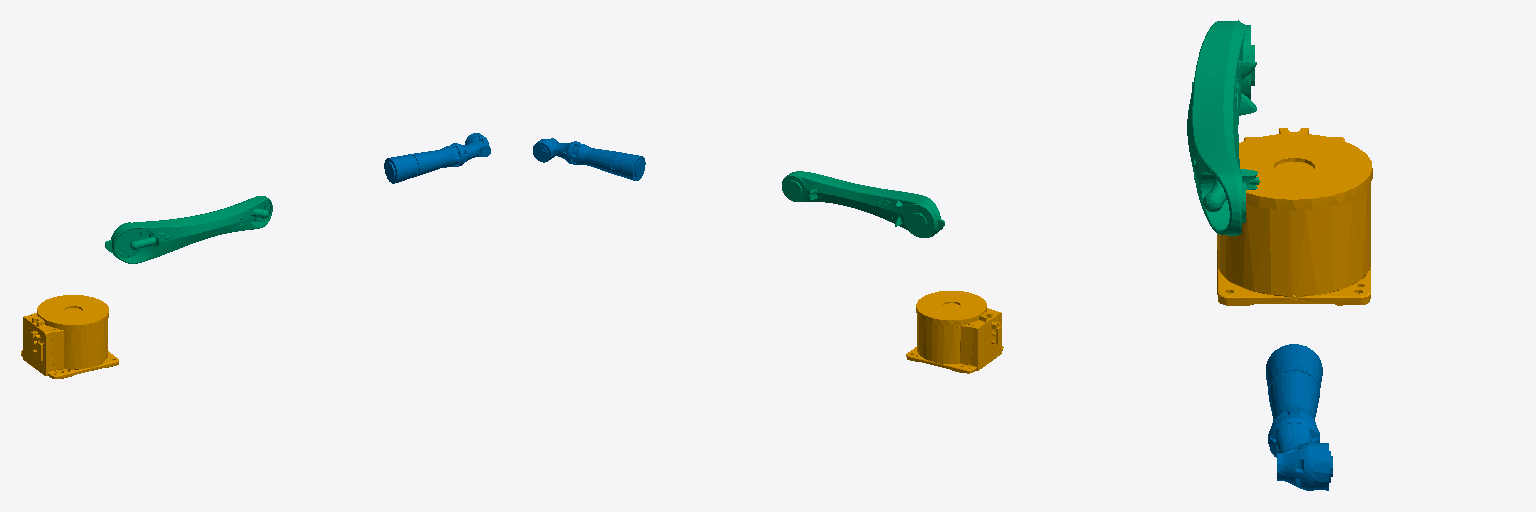
robot.urdf — kuka_kr20_r1810_2:
<?xml version="1.0" ?>
<!-- =================================================================================== -->
<!-- |    This document was autogenerated by xacro from kr16_2.xacro                   | -->
<!-- |    EDITING THIS FILE BY HAND IS NOT RECOMMENDED                                 | -->
<!-- =================================================================================== -->
<!--Generates a urdf from the macro in kr16_2_macro.xacro -->
<robot name="kuka_kr20_r1810_2" xmlns:xacro="http://wiki.ros.org/xacro">
  <!-- LINKS -->
  <!-- base link -->
  <link name="base_link">
    <inertial>
      <origin rpy="0 0 0" xyz="0 0 0"/>
      <mass value="2"/>
      <inertia ixx="0.01" ixy="0" ixz="0" iyy="0.01" iyz="0" izz="0.01"/>
    </inertial>
    <visual>
      <origin rpy="0 0 0" xyz="0 0 0"/>
      <geometry>
        <mesh filename="package://kuka_kr20_support/meshes/kuka_kr20_r1810_2/visual/base_link.stl" scale="0.001 0.001 0.001"/>
      </geometry>
    </visual>
    <collision>
      <origin rpy="0 0 0" xyz="0 0 0"/>
      <geometry>
        <mesh filename="package://kuka_kr20_support/meshes/kuka_kr20_r1810_2/collision/base_link.stl" scale="0.001 0.001 0.001"/>
      </geometry>
    </collision>
  </link>
  <!-- link 1 (A1) -->
  <link name="link_1">
    <inertial>
      <origin rpy="0 0 0" xyz="0 0 0"/>
      <mass value="2"/>
      <inertia ixx="0.01" ixy="0" ixz="0" iyy="0.01" iyz="0" izz="0.01"/>
    </inertial>
    <visual>
      <origin rpy="0 0 0" xyz="0 0 0"/>
      <geometry>
        <mesh filename="package://kuka_kr20_support/meshes/kuka_kr20_r1810_2/visual/link_1.stl" scale="0.001 0.001 0.001"/>
      </geometry>
    </visual>
    <collision>
      <origin rpy="0 0 0" xyz="0 0 0"/>
      <geometry>
        <mesh filename="package://kuka_kr20_support/meshes/kuka_kr20_r1810_2/collision/link_1.stl" scale="0.001 0.001 0.001"/>
      </geometry>
    </collision>
  </link>
  <!-- link 2 -->
  <link name="link_2">
    <inertial>
      <origin rpy="0 0 0" xyz="0 0 0"/>
      <mass value="2"/>
      <inertia ixx="0.01" ixy="0" ixz="0" iyy="0.01" iyz="0" izz="0.01"/>
    </inertial>
    <visual>
      <origin rpy="0 0 0" xyz="0 0 0"/>
      <geometry>
        <mesh filename="package://kuka_kr20_support/meshes/kuka_kr20_r1810_2/visual/link_2.stl" scale="0.001 0.001 0.001"/>
      </geometry>
    </visual>
    <collision>
      <origin rpy="0 0 0" xyz="0 0 0"/>
      <geometry>
        <mesh filename="package://kuka_kr20_support/meshes/kuka_kr20_r1810_2/collision/link_2.stl" scale="0.001 0.001 0.001"/>
      </geometry>
    </collision>
  </link>
  <!-- link 3 -->
  <link name="link_3">
    <inertial>
      <origin rpy="0 0 0" xyz="0 0 0"/>
      <mass value="2"/>
      <inertia ixx="0.01" ixy="0" ixz="0" iyy="0.01" iyz="0" izz="0.01"/>
    </inertial>
    <visual>
      <origin rpy="0 0 0" xyz="0 0 0"/>
      <geometry>
        <mesh filename="package://kuka_kr20_support/meshes/kuka_kr20_r1810_2/visual/link_3.stl" scale="0.001 0.001 0.001"/>
      </geometry>
    </visual>
    <collision>
      <origin rpy="0 0 0" xyz="0 0 0"/>
      <geometry>
        <mesh filename="package://kuka_kr20_support/meshes/kuka_kr20_r1810_2/collision/link_3.stl" scale="0.001 0.001 0.001"/>
      </geometry>
    </collision>
  </link>
  <!-- link 4 -->
  <link name="link_4">
    <inertial>
      <origin rpy="0 0 0" xyz="0 0 0"/>
      <mass value="2"/>
      <inertia ixx="0.01" ixy="0" ixz="0" iyy="0.01" iyz="0" izz="0.01"/>
    </inertial>
    <visual>
      <origin rpy="0 0 0" xyz="0 0 0"/>
      <geometry>
        <mesh filename="package://kuka_kr20_support/meshes/kuka_kr20_r1810_2/visual/link_4.stl" scale="0.001 0.001 0.001"/>
      </geometry>
    </visual>
    <collision>
      <origin rpy="0 0 0" xyz="0 0 0"/>
      <geometry>
        <mesh filename="package://kuka_kr20_support/meshes/kuka_kr20_r1810_2/collision/link_4.stl" scale="0.001 0.001 0.001"/>
      </geometry>
    </collision>
  </link>
  <!-- link 5 -->
  <link name="link_5">
    <inertial>
      <origin rpy="0 0 0" xyz="0 0 0"/>
      <mass value="2"/>
      <inertia ixx="0.01" ixy="0" ixz="0" iyy="0.01" iyz="0" izz="0.01"/>
    </inertial>
    <visual>
      <origin rpy="0 0 0" xyz="0 0 0"/>
      <geometry>
        <mesh filename="package://kuka_kr20_support/meshes/kuka_kr20_r1810_2/visual/link_5.stl" scale="0.001 0.001 0.001"/>
      </geometry>
    </visual>
    <collision>
      <origin rpy="0 0 0" xyz="0 0 0"/>
      <geometry>
        <mesh filename="package://kuka_kr20_support/meshes/kuka_kr20_r1810_2/collision/link_5.stl" scale="0.001 0.001 0.001"/>
      </geometry>
    </collision>
  </link>
  <!-- link 6 -->
  <link name="link_6">
    <inertial>
      <origin rpy="0 0 0" xyz="0 0 0"/>
      <mass value="2"/>
      <inertia ixx="0.01" ixy="0" ixz="0" iyy="0.01" iyz="0" izz="0.01"/>
    </inertial>
    <visual>
      <origin rpy="0 0 0" xyz="0 0 0"/>
      <geometry>
        <mesh filename="package://kuka_kr20_support/meshes/kuka_kr20_r1810_2/visual/link_6.stl" scale="0.001 0.001 0.001"/>
      </geometry>
    </visual>
    <collision>
      <origin rpy="0 0 0" xyz="0 0 0"/>
      <geometry>
        <mesh filename="package://kuka_kr20_support/meshes/kuka_kr20_r1810_2/collision/link_6.stl" scale="0.001 0.001 0.001"/>
      </geometry>
    </collision>
  </link>
  <!-- tool 0 -->
  <!-- This frame corresponds to the $FLANGE coordinate system in KUKA KRC controllers. -->
  <link name="tool0"/>
  <!-- END LINKS -->
  <!-- JOINTS -->
  <!-- joint 1 (A1) -->
  <joint name="joint_a1" type="revolute">
    <origin rpy="0 0 0" xyz="0 0 0.675"/>
    <parent link="base_link"/>
    <child link="link_1"/>
    <axis xyz="0 0 -1"/>
    <limit effort="0" lower="-3.22885911619" upper="3.22885911619" velocity="2.72271363311"/>
  </joint>
  <!-- joint 2 (A2) -->
  <joint name="joint_a2" type="revolute">
    <origin rpy="0 0 0" xyz="0.26 0 0"/>
    <parent link="link_1"/>
    <child link="link_2"/>
    <axis xyz="0 1 0"/>
    <limit effort="0" lower="-2.70526034059" upper="0.610865238198" velocity="2.72271363311"/>
  </joint>
  <!-- joint 3 (A3) -->
  <joint name="joint_a3" type="revolute">
    <origin rpy="0 0 0" xyz="0.68 0 0"/>
    <parent link="link_2"/>
    <child link="link_3"/>
    <axis xyz="0 1 0"/>
    <limit effort="0" lower="-2.26892802759" upper="2.68780704807" velocity="2.72271363311"/>
  </joint>
  <!-- joint 4 (A4) -->
  <joint name="joint_a4" type="revolute">
    <origin rpy="0 0 0" xyz="0.67 0 -0.035"/>
    <parent link="link_3"/>
    <child link="link_4"/>
    <axis xyz="-1 0 0"/>
    <limit effort="0" lower="-6.10865238198" upper="6.10865238198" velocity="5.75958653158"/>
  </joint>
  <!-- joint 5 (A5) -->
  <joint name="joint_a5" type="revolute">
    <origin rpy="0 0 0" xyz="0 0 0"/>
    <parent link="link_4"/>
    <child link="link_5"/>
    <axis xyz="0 1 0"/>
    <limit effort="0" lower="-2.26892802759" upper="2.26892802759" velocity="5.75958653158"/>
  </joint>
  <!-- joint 6 (A6) -->
  <joint name="joint_a6" type="revolute">
    <origin rpy="0 0 0" xyz="0 0 0"/>
    <parent link="link_5"/>
    <child link="link_6"/>
    <axis xyz="-1 0 0"/>
    <limit effort="0" lower="-6.10865238198" upper="6.10865238198" velocity="10.7337748998"/>
  </joint>
  <!-- tool frame - fixed frame -->
  <joint name="joint_a6-tool0" type="fixed">
    <parent link="link_6"/>
    <child link="tool0"/>
    <origin rpy="0 1.57079632679 0" xyz="0.158 0 0"/>
  </joint>
  <!-- END JOINTS -->
  <!-- ROS base_link to KUKA $ROBROOT coordinate system transform -->
  <link name="base"/>
  <joint name="base_link-base" type="fixed">
    <origin rpy="0 0 0" xyz="0 0 0"/>
    <parent link="base_link"/>
    <child link="base"/>
  </joint>
</robot>

--- What the picture shows (computed from the rendered views, not written in the file) ---
Views: 3 orthographic renders of the robot side by side, from view 1: azimuth 30°, elevation 25°; view 2: azimuth 150°, elevation 25°; view 3: azimuth 270°, elevation 25°.
Model kuka_kr20_r1810_2 with 9 links and 8 joints (6 revolute, 2 fixed), rooted at base_link, posed all joints at 0.
Visible links, largest first — view 1: base_link, link_2, link_4; view 2: base_link, link_2, link_4; view 3: base_link, link_2, link_4.
Boxes of the visible links, x1,y1,x2,y2 form: base_link: (21,295,118,378); link_2: (105,196,272,263); link_4: (384,133,490,183); base_link: (906,291,1003,373); link_2: (782,171,944,237); link_4: (533,138,645,180); base_link: (1217,128,1372,305); link_2: (1187,20,1259,235); link_4: (1266,344,1332,490).
Size in the robot's own frame: 2.79 by 0.4462 by 0.7824 metres.
Meshes: 7 distinct files referenced, 3 mesh visuals loaded (3 binary STL); not drawn: 4 (reference not matched to a file when rendering).